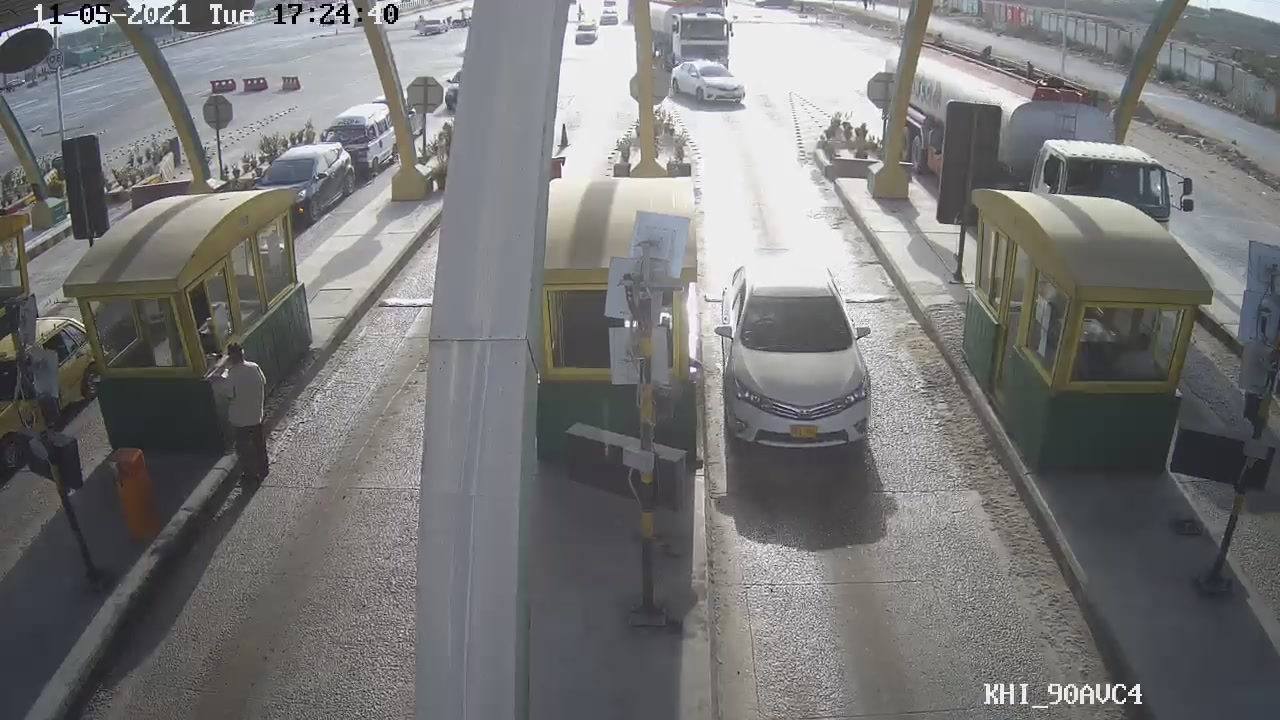F1: (707, 258, 886, 455)
